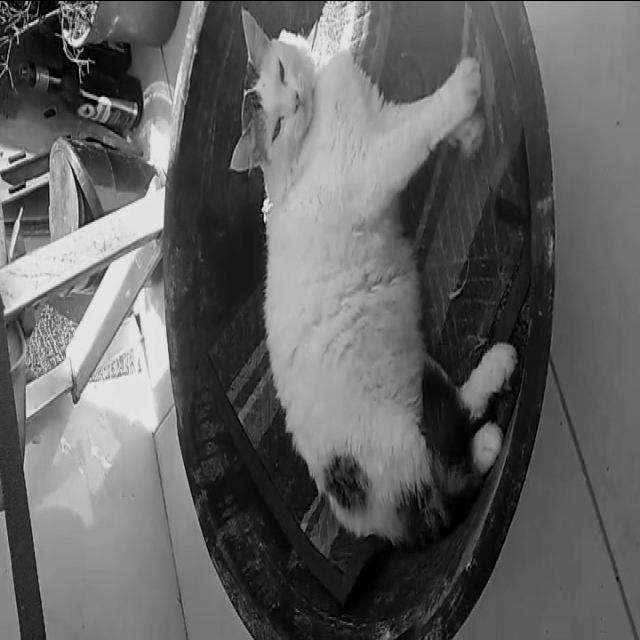Simba: (220, 2, 515, 570)
